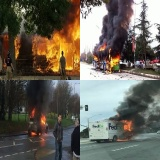fire: (32, 8, 80, 74), (93, 42, 120, 73), (115, 119, 133, 141), (31, 108, 45, 135), (14, 35, 21, 59)
